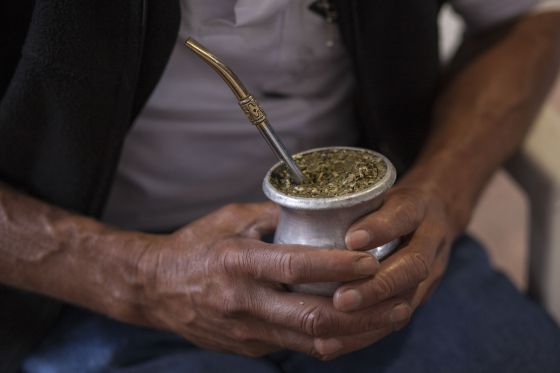guampa: (173, 35, 429, 291)
